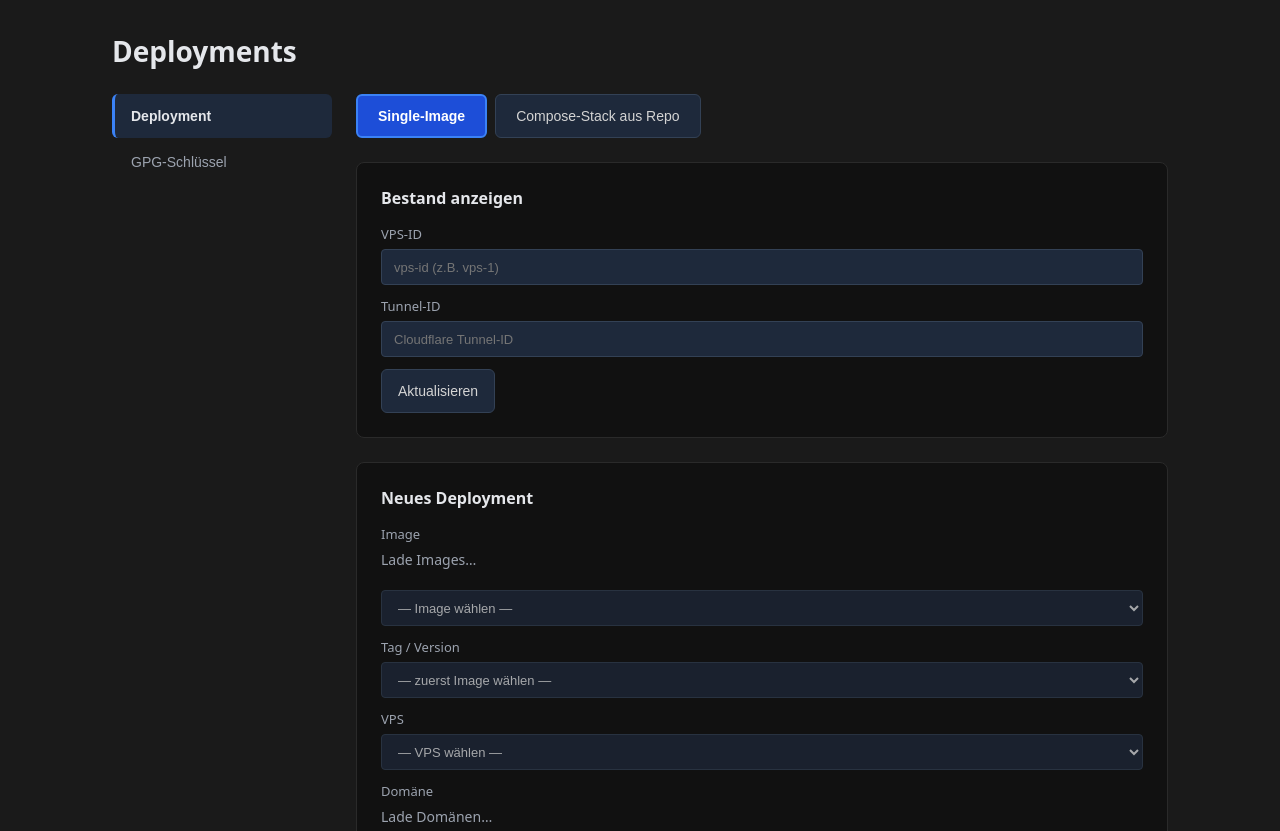
Test: DeploymentsView — AC12: Stack-Deploy (POST /api/deployments/stacks/{stackName}/deploy) › shows error on deploy failure (422 protected-resource)
The image size is (1280, 831).
Click the button "Compose-Stack aus Repo": (598, 116) [495, 94, 700, 138]
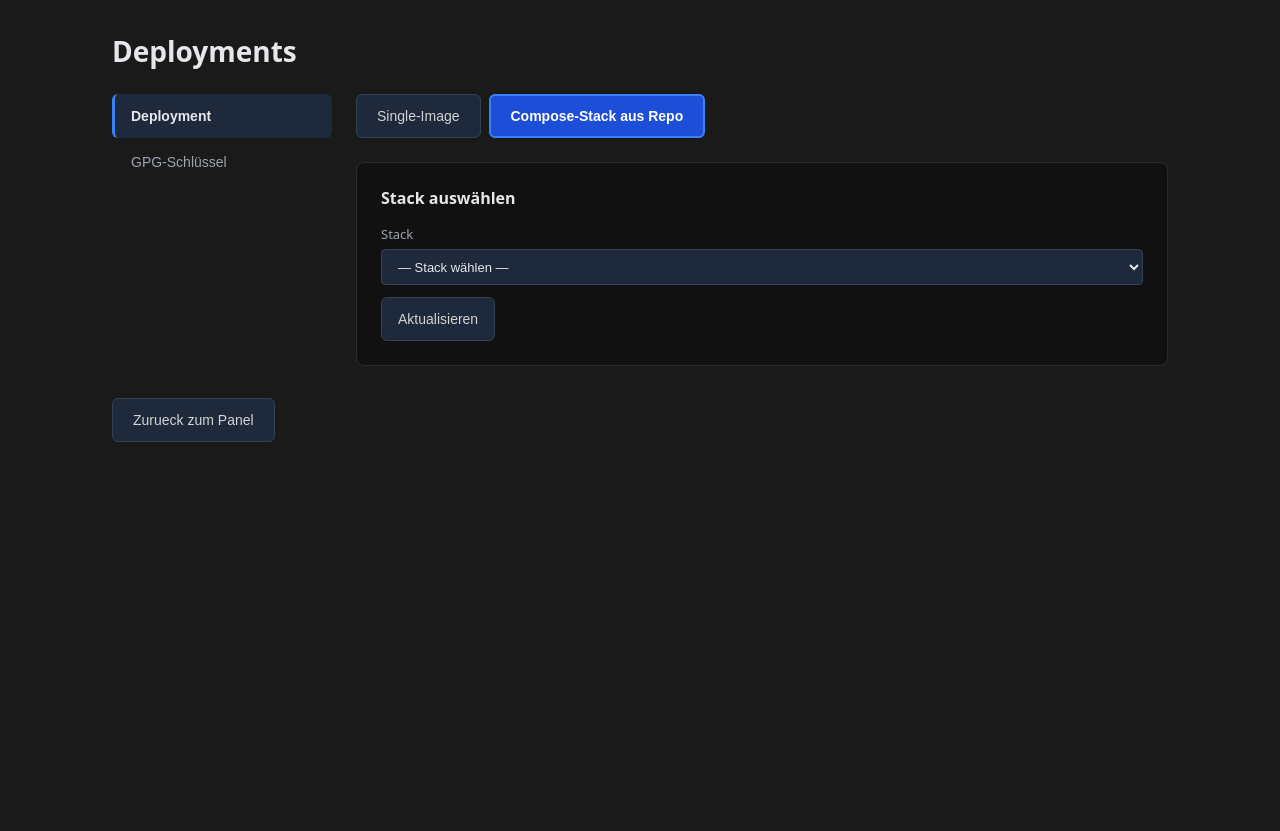
expect the dropdown named "Compose-Stack auswählen" is shown: met
Select "myapp" in the dropdown named "Compose-Stack auswählen": (762, 267) [381, 249, 1143, 285]
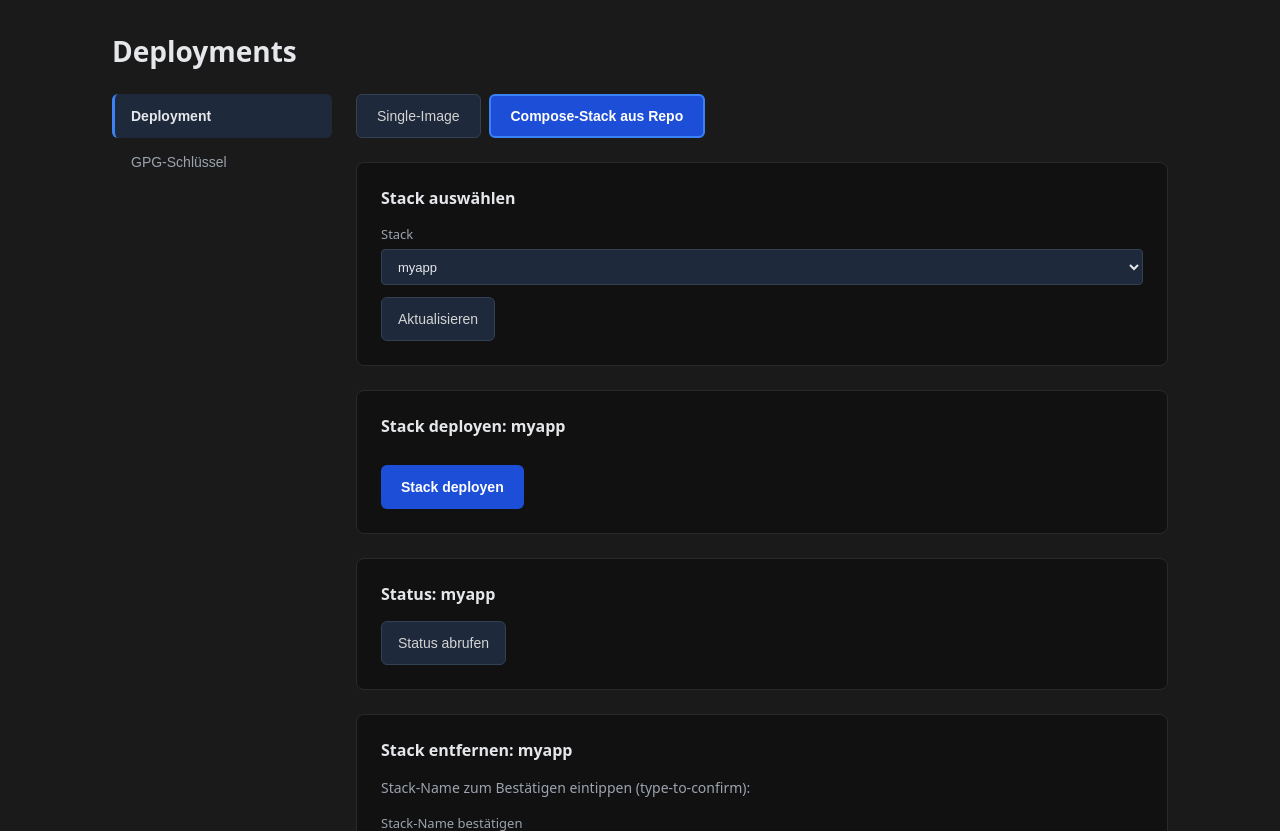
expect the form named "Stack-Deploy-Formular" is shown: met
Submit the form named "Stack-Deploy-Formular", box [381, 465, 524, 509]
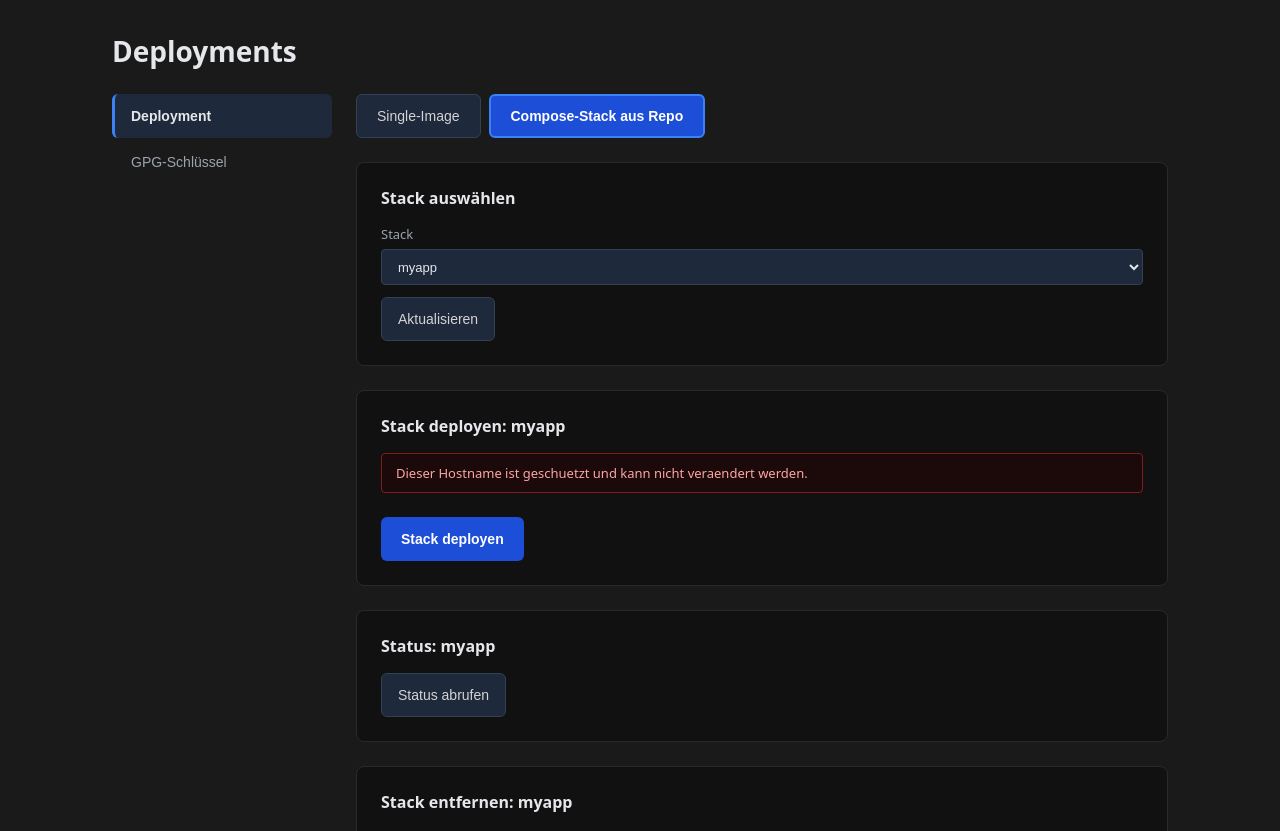
expect the message shows "geschuetzt": met, box [396, 464, 808, 482]
